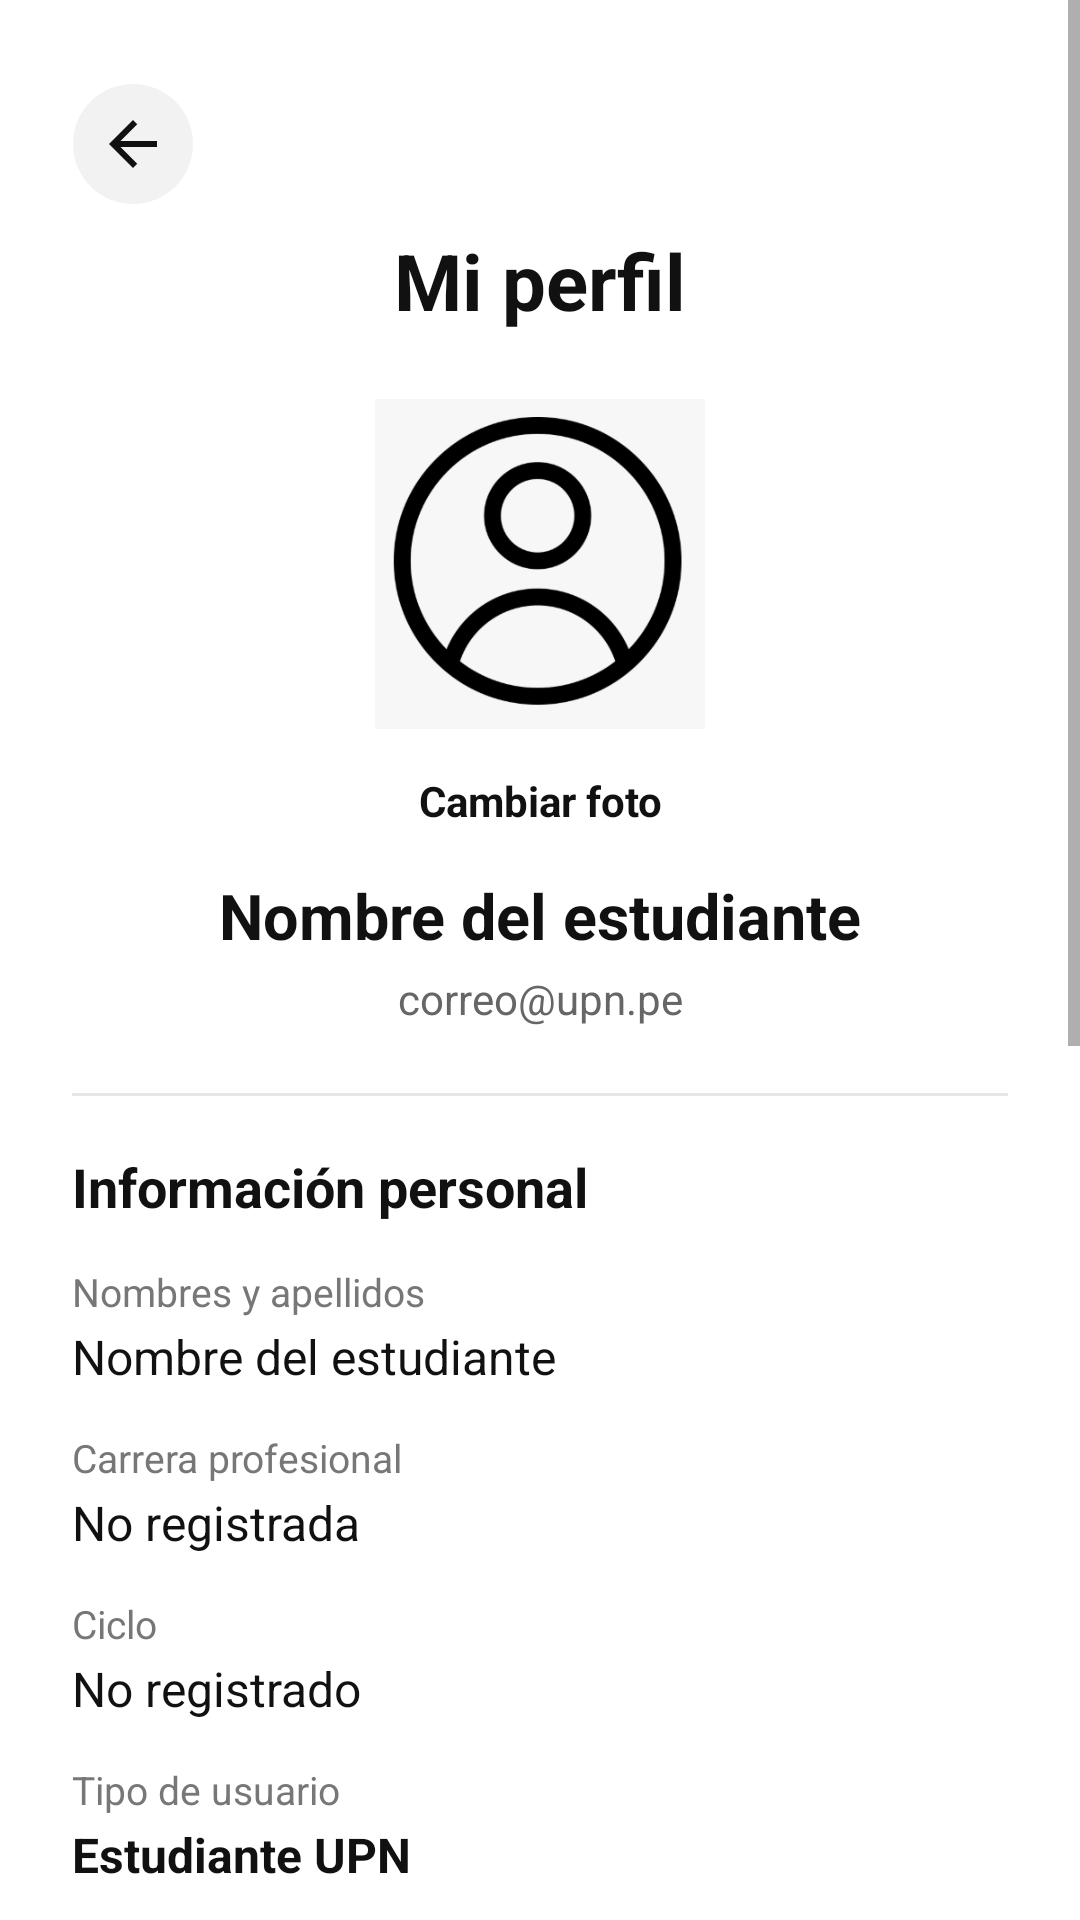

Screen size 1080x1920. Icon name, then its box in pixels as (x1, y1, x2, y2):
Foto de perfil: (393, 417, 682, 705)
Regresar: (73, 84, 193, 204)
